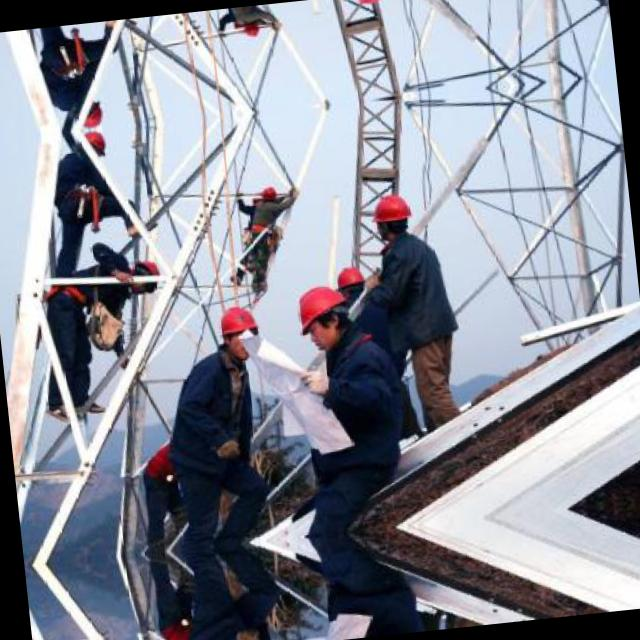helmet: (289, 278, 356, 355), (212, 300, 262, 360), (368, 188, 414, 242), (124, 251, 166, 295), (335, 260, 371, 302), (72, 92, 106, 130), (76, 130, 110, 167), (256, 178, 280, 208), (238, 14, 262, 44), (346, 0, 390, 10)
